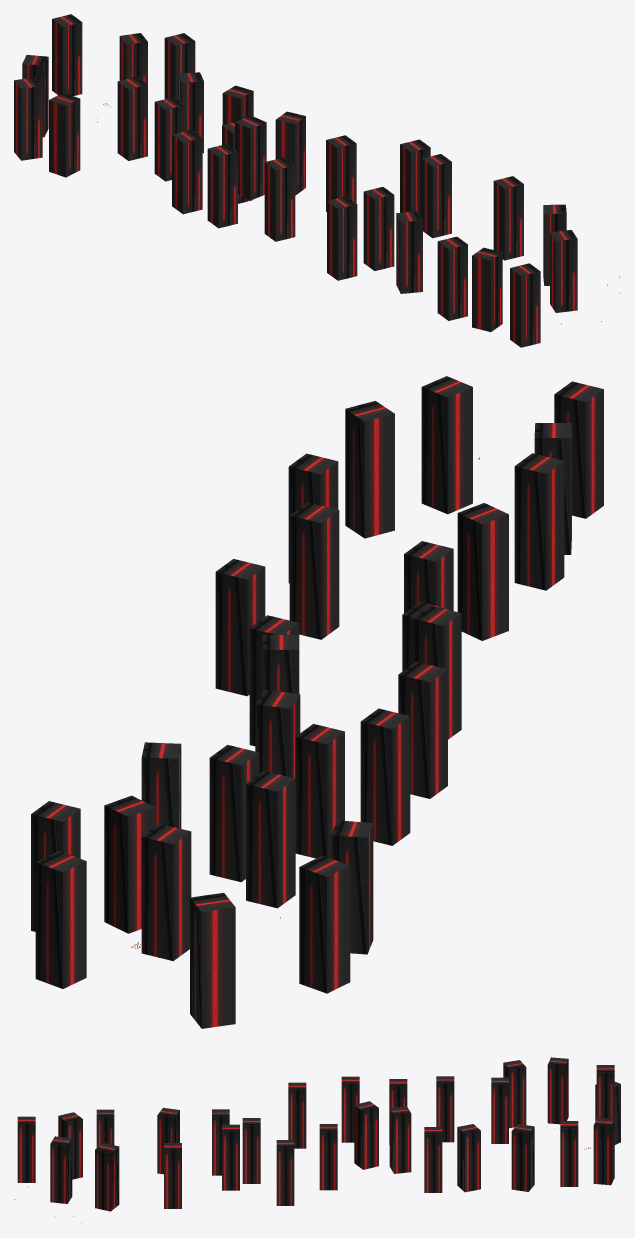
File: Decoration.glb
3 views of the same model, one above another, from view 1: azimuth 30°, elevation 25°; view 2: azimuth 150°, elevation 25°; view 3: azimuth 270°, elevation 25° (orthographic). The views are drawn at different scales.
Parts seen in each view (by area): view 1: Cube.016, Cube.021, Cube.014, Cube.015, Cube.027, Cube.017, Cube.020, Cube.018, Cube.024, Cube.028, Cube.013, Cube.022 (+15 smaller); view 2: Cube.026, Cube.005, Cube.003, Cube.023, Cube.024, Cube.001, Cube.013, Cube.025, Cube.020, Cube.018, Cube.019, Cube.002 (+15 smaller); view 3: Cube.025, Cube.010, Cube.007, Cube.006, Cube.009, Cube.026, Cube.005, Cube.003, Cube.011, Cube.027, Cube.004, Cube.008 (+16 smaller).
Part boxes in pixels (bbox=[...]): Cube.016: bbox=[264, 157, 295, 241]; Cube.021: bbox=[49, 92, 80, 177]; Cube.014: bbox=[363, 187, 394, 270]; Cube.015: bbox=[327, 196, 357, 280]; Cube.027: bbox=[510, 263, 540, 347]; Cube.017: bbox=[207, 144, 237, 228]; Cube.020: bbox=[117, 76, 147, 160]; Cube.018: bbox=[172, 130, 202, 214]; Cube.024: bbox=[437, 236, 467, 320]; Cube.028: bbox=[472, 247, 502, 332]; Cube.013: bbox=[421, 154, 451, 238]; Cube.022: bbox=[493, 176, 523, 260]; Cube.026: bbox=[421, 376, 472, 514]; Cube.005: bbox=[35, 851, 86, 988]; Cube.003: bbox=[299, 855, 350, 993]; Cube.023: bbox=[457, 503, 508, 640]; Cube.024: bbox=[514, 453, 564, 590]; Cube.001: bbox=[141, 823, 191, 961]; Cube.013: bbox=[289, 502, 339, 639]; Cube.025: bbox=[345, 401, 394, 538]; Cube.020: bbox=[246, 771, 295, 908]; Cube.018: bbox=[360, 708, 410, 845]; Cube.019: bbox=[295, 724, 344, 858]; Cube.002: bbox=[190, 892, 235, 1028]; Cube.025: bbox=[95, 1143, 119, 1211]; Cube.010: bbox=[354, 1101, 378, 1169]; Cube.007: bbox=[457, 1124, 480, 1192]; Cube.006: bbox=[511, 1124, 534, 1191]; Cube.009: bbox=[389, 1106, 411, 1173]; Cube.026: bbox=[50, 1136, 72, 1203]; Cube.005: bbox=[593, 1118, 614, 1185]; Cube.003: bbox=[547, 1057, 568, 1124]; Cube.011: bbox=[319, 1124, 337, 1190]; Cube.027: bbox=[17, 1116, 35, 1182]; Cube.004: bbox=[560, 1121, 578, 1186]; Cube.008: bbox=[424, 1127, 442, 1192].
Bounding box in the file's own units: 528 × 189 × 1100.
Materials: 2 (2 with a texture image).
